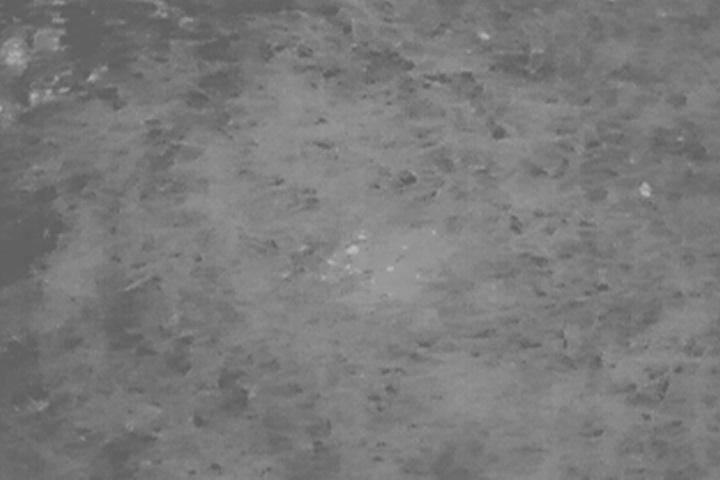landmine: (325, 219, 388, 282)
